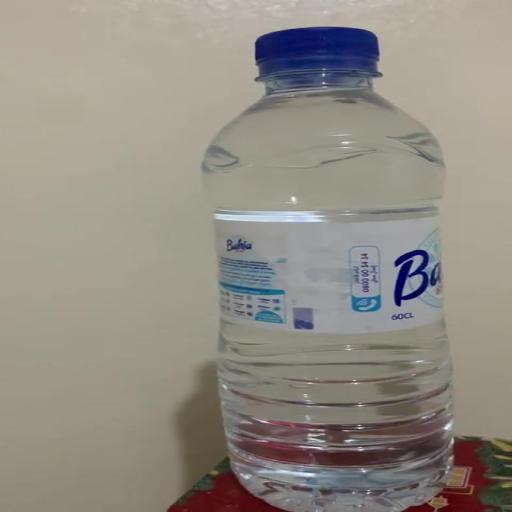bouteille conformite: (183, 17, 491, 512)
